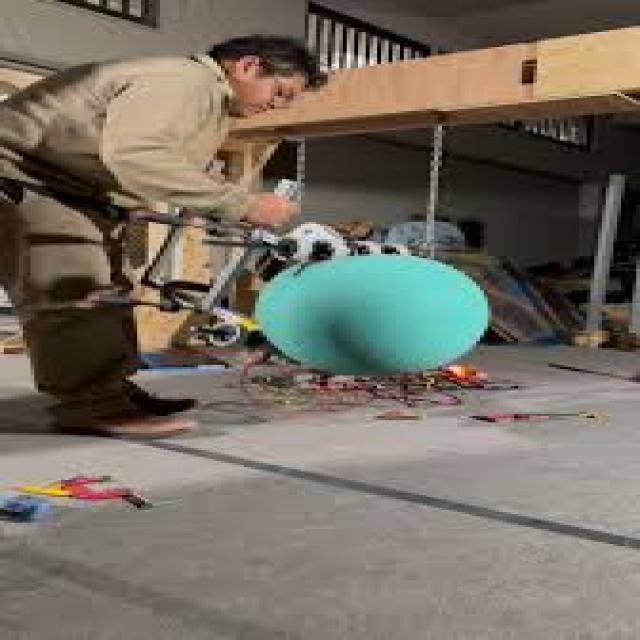algae: (251, 254, 491, 378)
